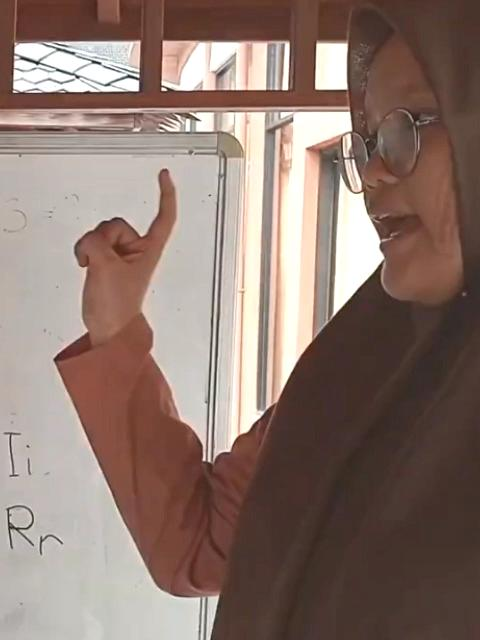X: (65, 161, 191, 325)
